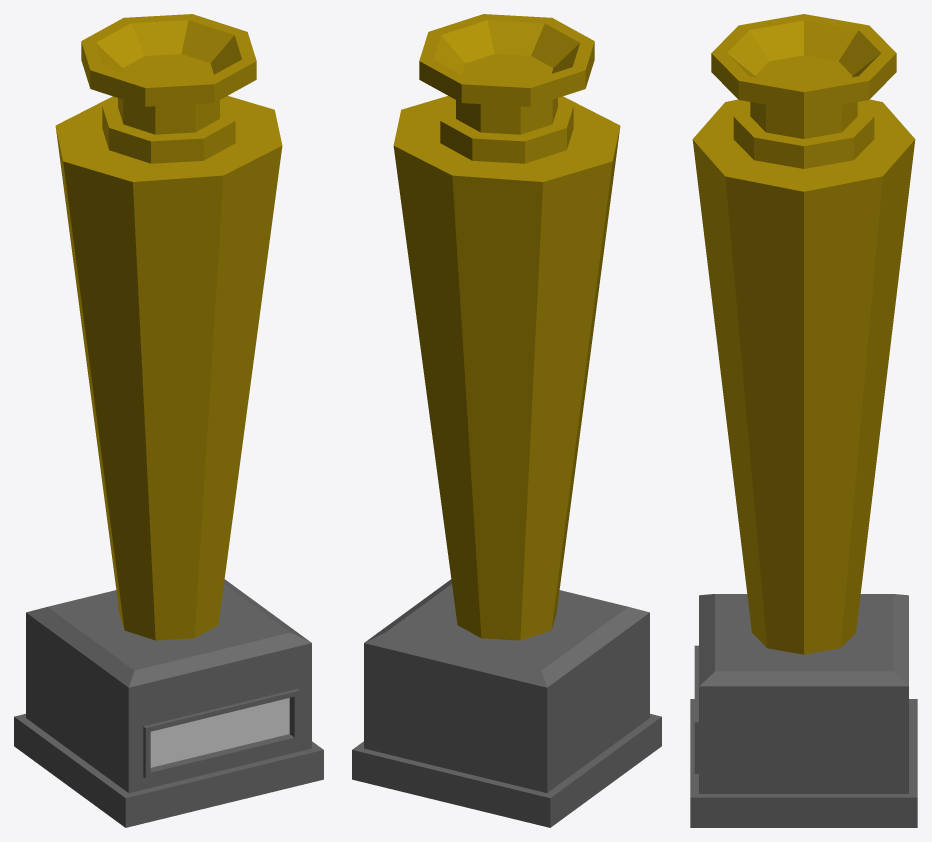
The model's file is TrophyV2.fbx.
The picture shows the model from 3 angles, left to right: view 1: azimuth 30°, elevation 25°; view 2: azimuth 150°, elevation 25°; view 3: azimuth 270°, elevation 25°; orthographic projection.
Parts seen in each view (by area): view 1: TrophyV2; view 2: TrophyV2; view 3: TrophyV2.
Part boxes in pixels (x1,y1,x2,y2): TrophyV2: (14, 14, 323, 827); TrophyV2: (352, 14, 661, 827); TrophyV2: (690, 14, 917, 827).
Bounding box in the file's own units: 8.62 × 27.71 × 7.87.
